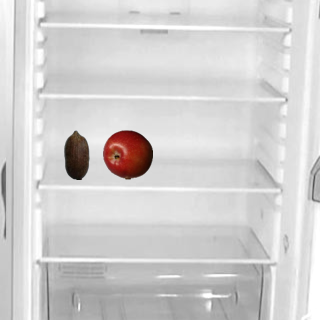Apple Braeburn: (102, 129, 152, 179)
Nut Pecan: (51, 129, 101, 179)
